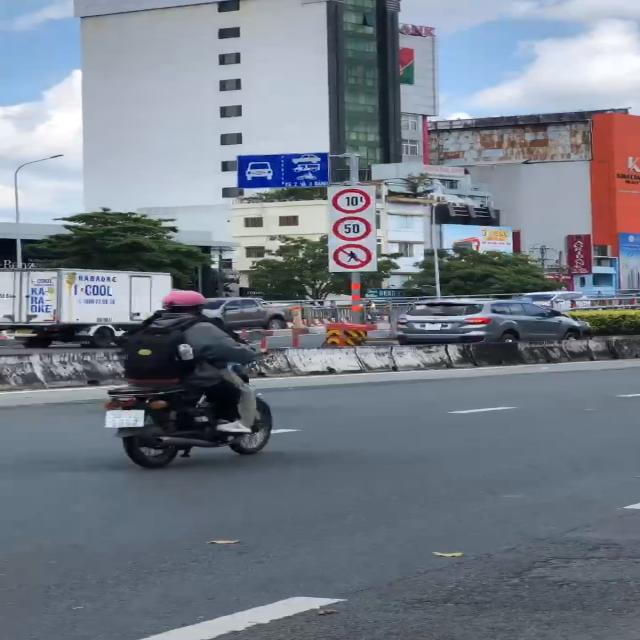Bien bao cam nguoi di bo: (329, 242, 378, 270)
Bien bao toc do toi da cho phep: (329, 215, 372, 242)
